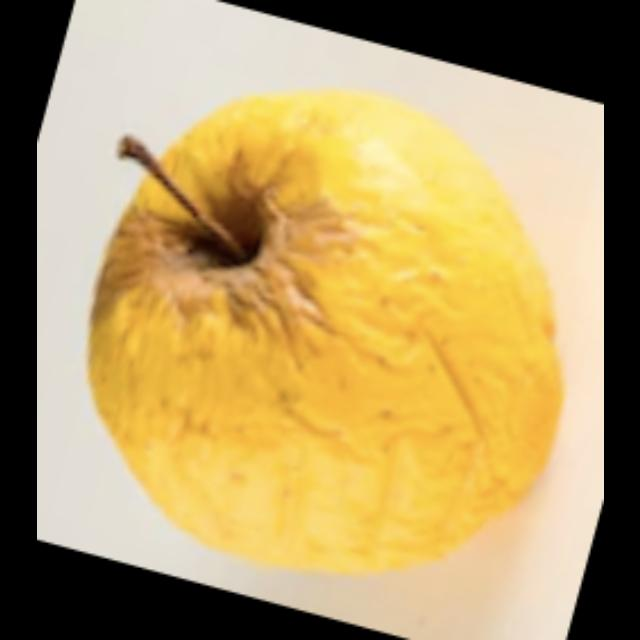Apel Tidak Segar: (78, 81, 570, 584)
